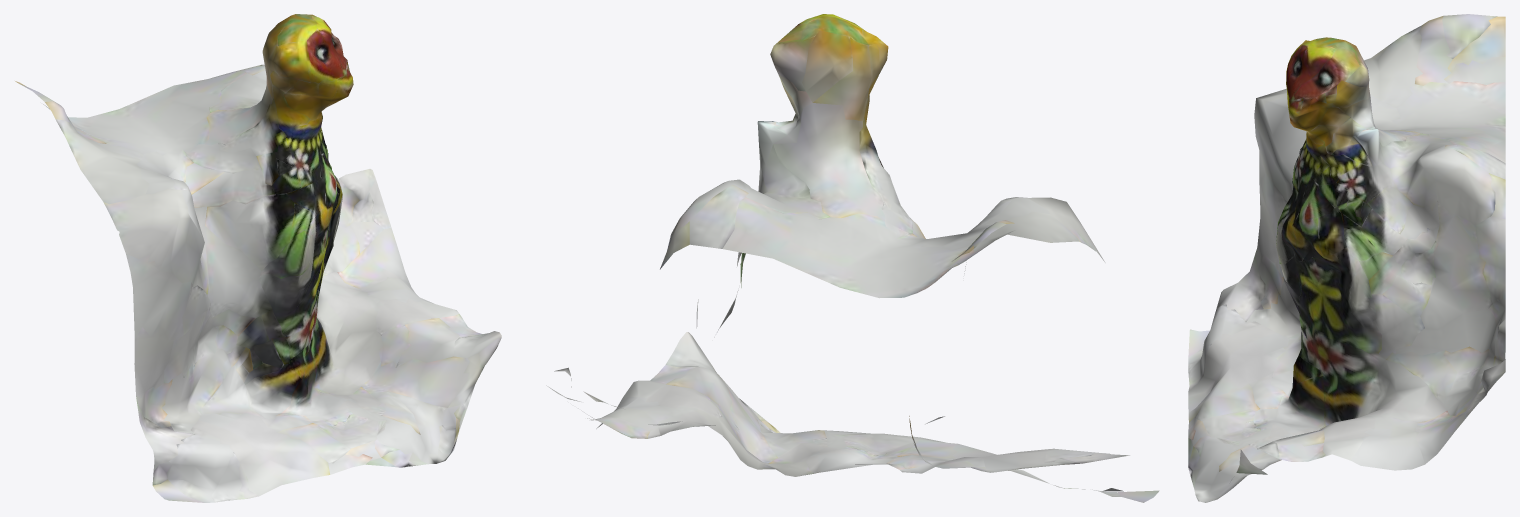
File: hall.glb
3 renders of one model, left to right at view 1: azimuth 30°, elevation 25°; view 2: azimuth 150°, elevation 25°; view 3: azimuth 270°, elevation 25°, orthographic. The views are drawn at different scales.
Bounding box in the file's own units: 0.8 × 0.8834 × 0.6028.
Materials: 1 (1 with a texture image).
